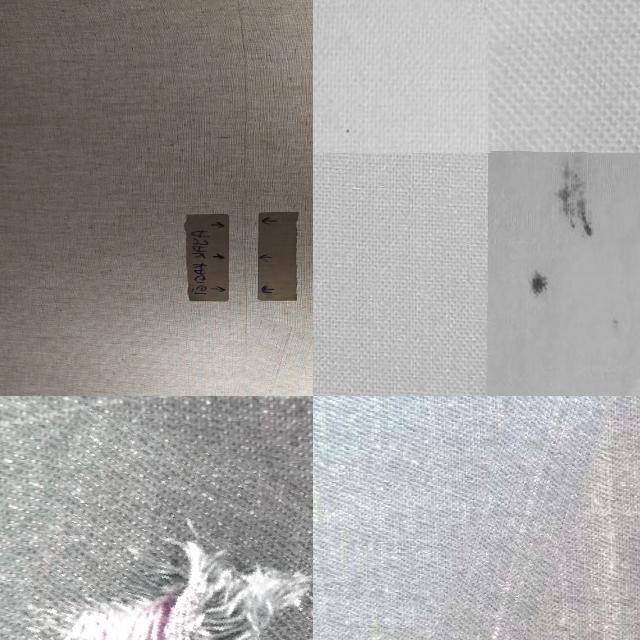Thread_other: (487, 151, 640, 396)
stains: (0, 431, 313, 640), (406, 396, 598, 640), (212, 0, 280, 187), (187, 315, 293, 396)
